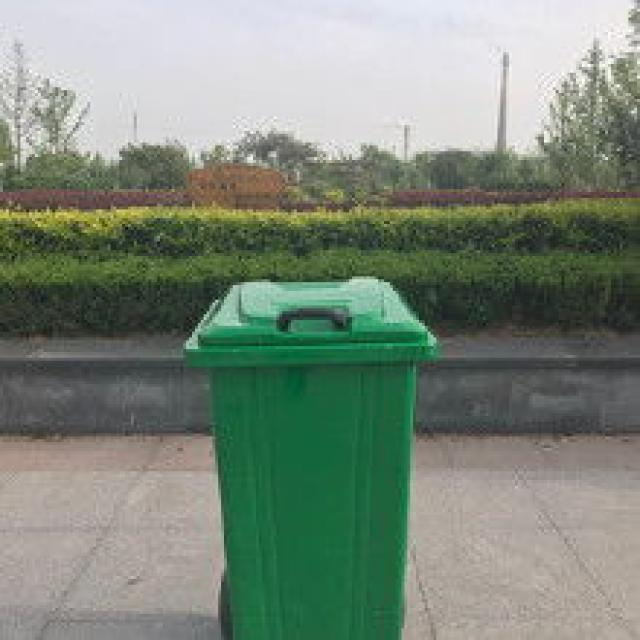garbage_bin: (184, 274, 436, 637)
